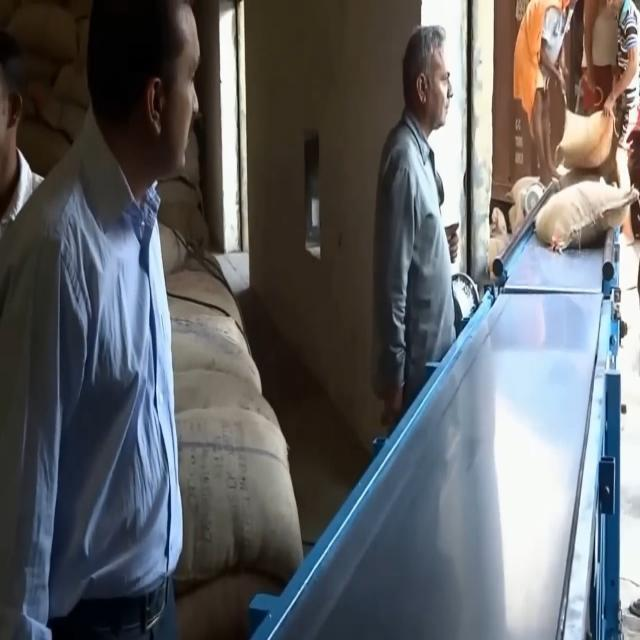gunny_bag: (538, 177, 640, 260), (548, 108, 617, 177)
